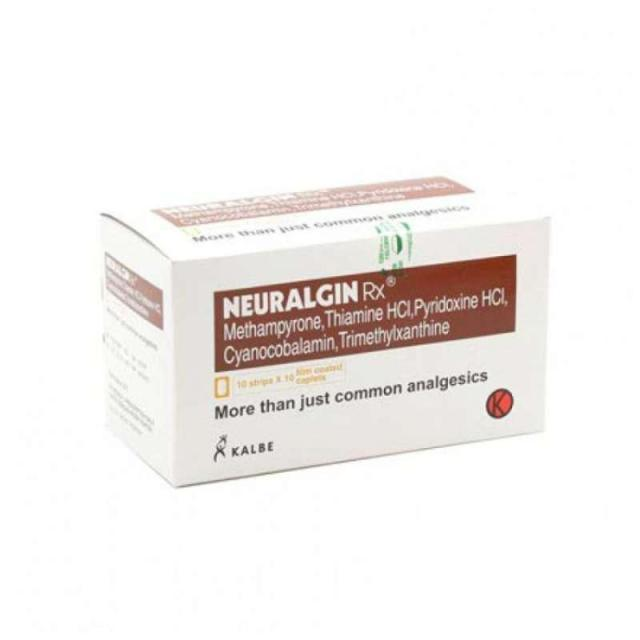drug-name: (218, 276, 388, 323)
